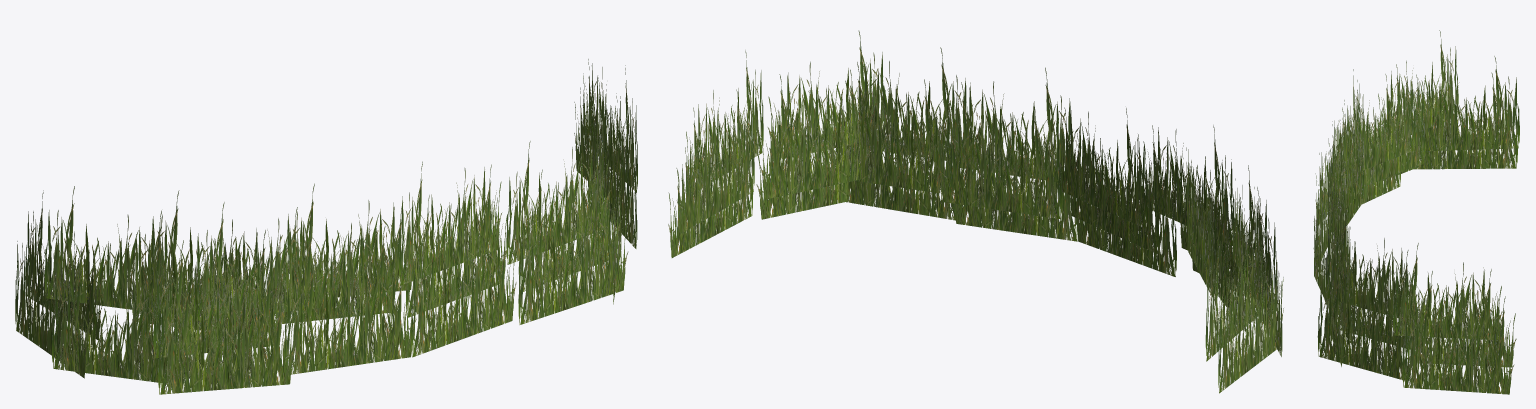
The model's file is grassv2.fbx.
3 renders of one model, left to right at view 1: azimuth 30°, elevation 25°; view 2: azimuth 150°, elevation 25°; view 3: azimuth 270°, elevation 25°, orthographic. The views are drawn at different scales.
Visible parts, largest first — view 1: Plane; view 2: Plane; view 3: Plane.
Boxes of the visible parts, x1,y1,x2,y2 form: Plane: (15, 59, 637, 394); Plane: (668, 30, 1283, 393); Plane: (1313, 30, 1519, 394).
Bounding box in the file's own units: 4.53 × 1.44 × 1.73.
Materials: 1 (1 with a texture image).
